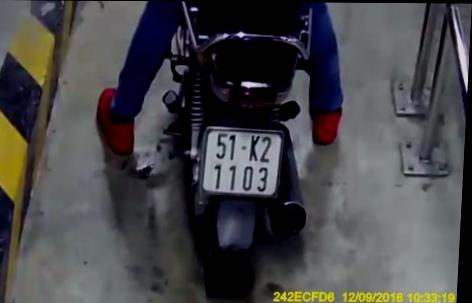License_Plate: (194, 123, 288, 203)
